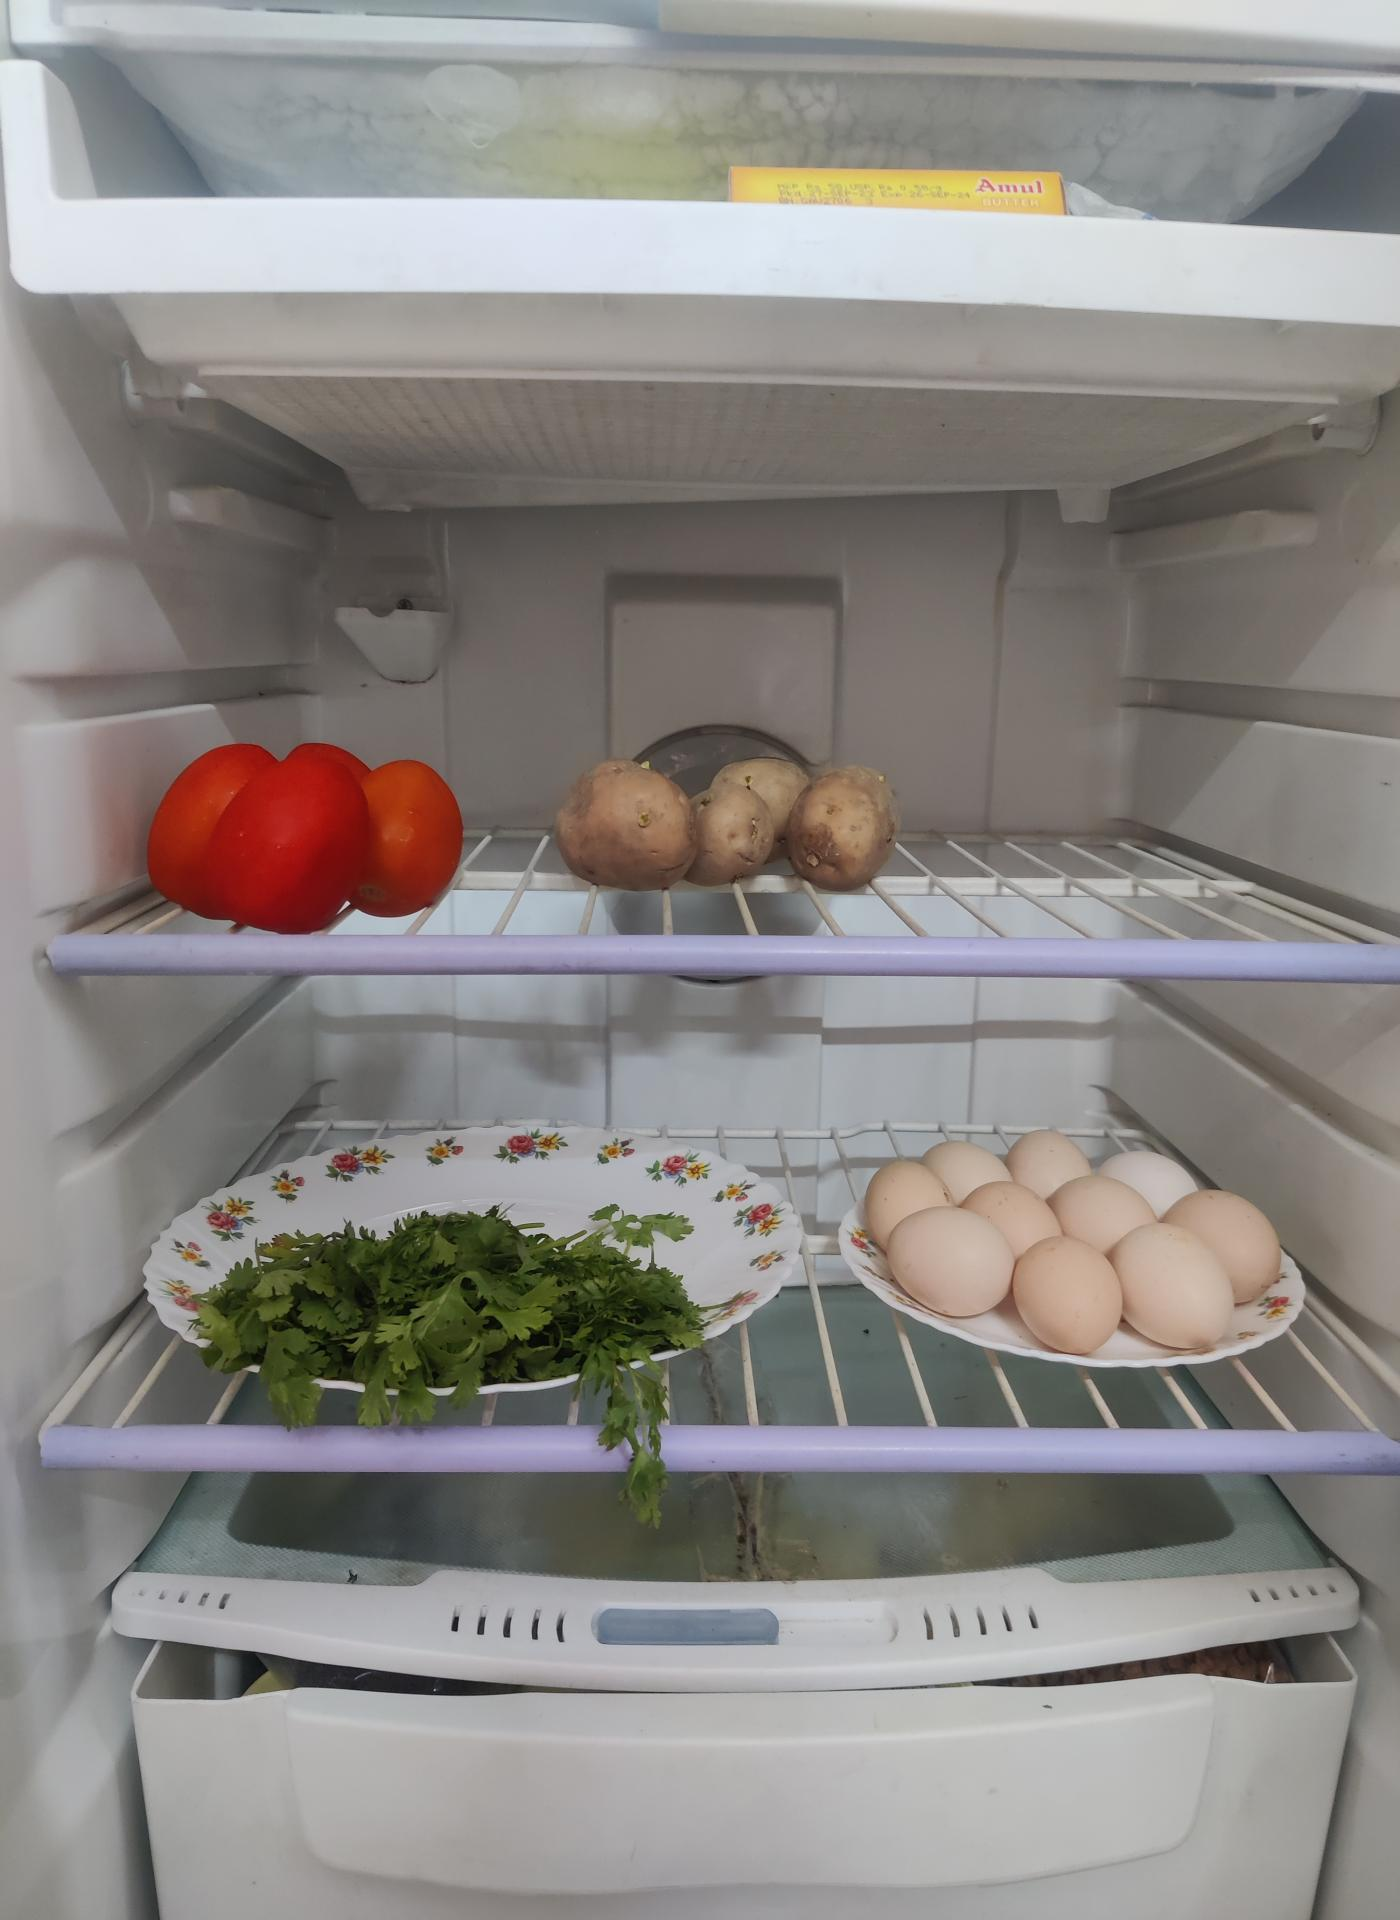coriander: (186, 1206, 701, 1412)
egg: (875, 1131, 1293, 1373)
potato: (561, 753, 904, 894)
tomato: (151, 744, 468, 936)
